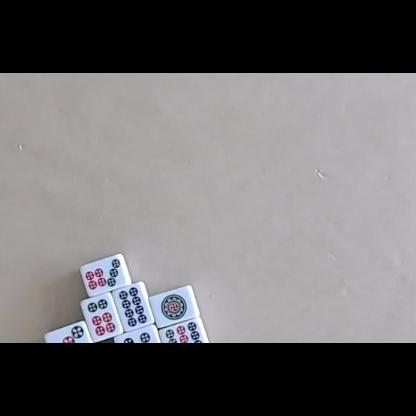1p: (161, 293, 188, 321)
3p: (52, 325, 84, 343)
4p: (123, 331, 155, 343)
6p: (87, 298, 116, 336)
7p: (84, 258, 121, 290)
8p: (118, 287, 148, 327)
9p: (164, 321, 203, 343)
